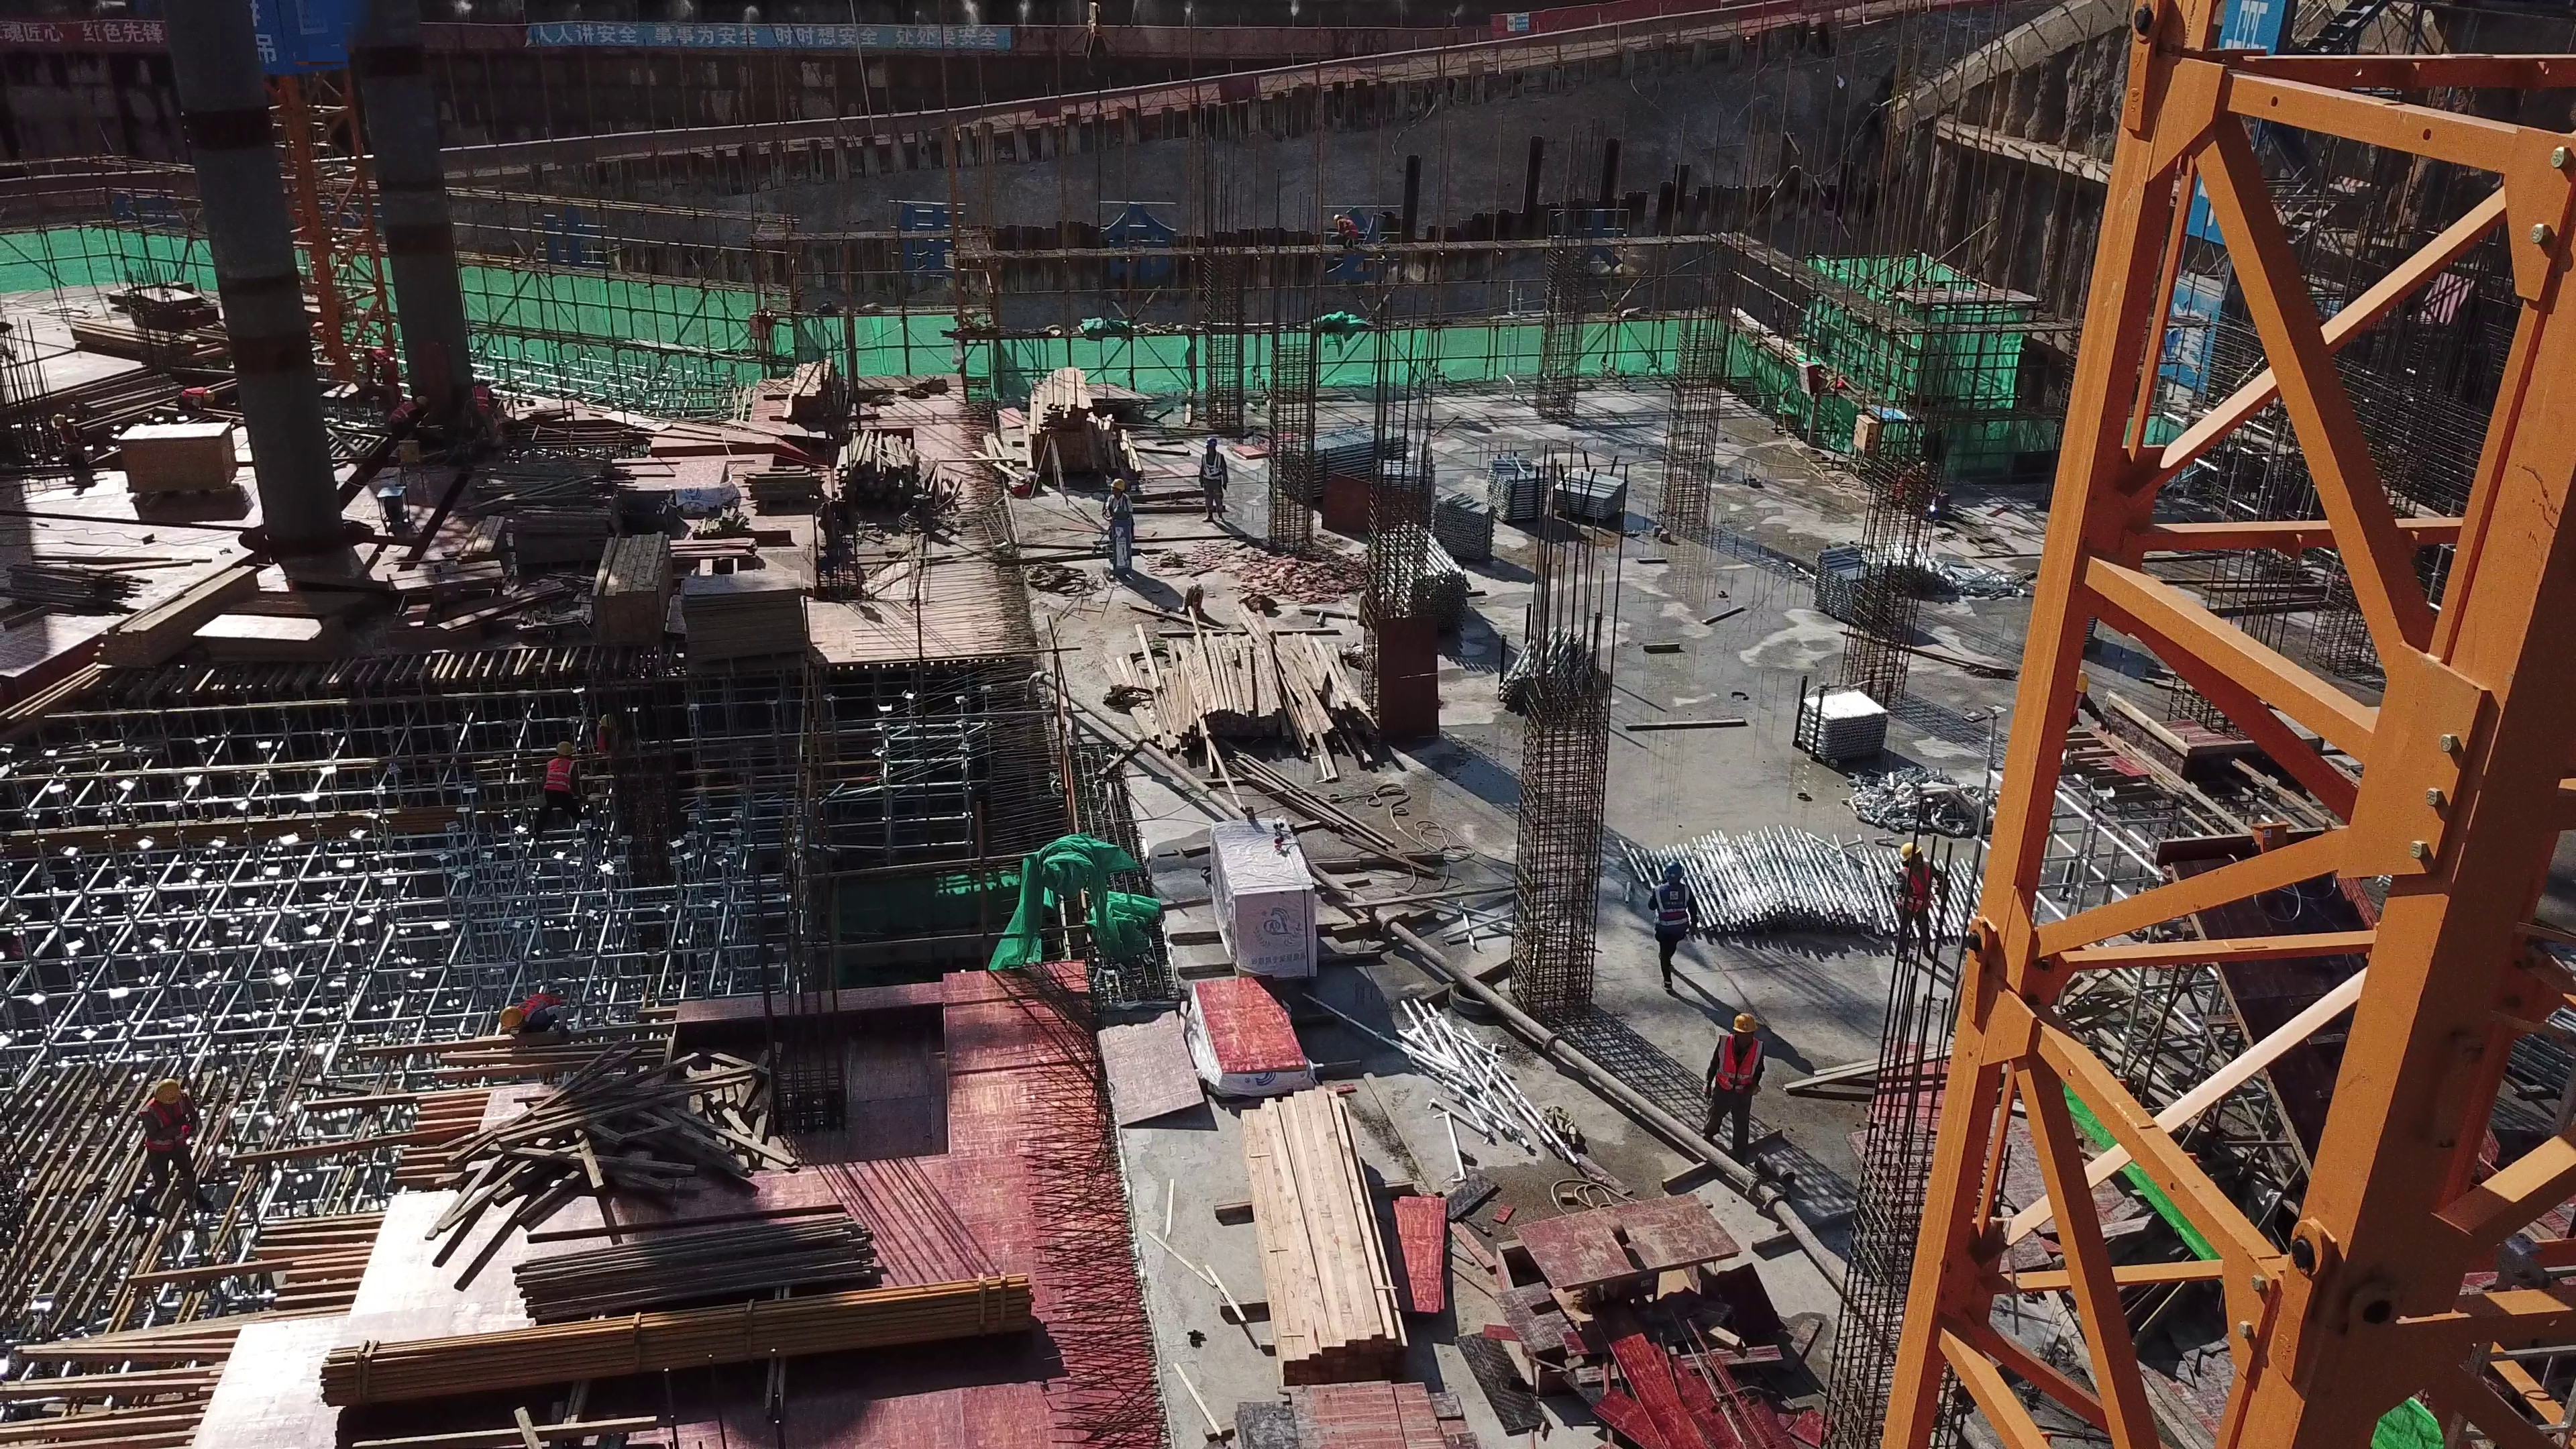board: (1627, 1348, 1850, 1449), (687, 578, 807, 648), (1210, 985, 1287, 1086)
fence: (1048, 21, 1711, 97), (432, 101, 1027, 174)
helmet: (142, 1102, 195, 1152), (157, 1078, 184, 1104), (1896, 841, 1923, 860), (1735, 1012, 1758, 1033), (1666, 863, 1682, 879), (558, 745, 574, 757), (1201, 438, 1221, 450), (1110, 478, 1126, 488), (203, 388, 217, 402)
person: (132, 1083, 205, 1208), (1697, 1021, 1764, 1146), (1646, 858, 1694, 984), (1895, 841, 1941, 969), (535, 741, 583, 828), (1099, 482, 1140, 564), (464, 378, 505, 453), (50, 415, 88, 488), (1197, 440, 1232, 523), (488, 996, 570, 1030), (387, 396, 427, 446), (1325, 209, 1358, 254), (174, 382, 215, 411)
scaffold: (1631, 830, 1995, 951), (1273, 409, 1411, 502), (1490, 633, 1607, 725), (1377, 527, 1465, 631), (1809, 537, 1890, 624), (1796, 686, 1886, 758), (1483, 440, 1548, 524), (1549, 464, 1625, 527), (1431, 490, 1495, 560)
slogan: (509, 193, 1222, 290), (516, 24, 1032, 57), (1, 21, 170, 55)
vest: (1713, 1038, 1760, 1093), (1650, 883, 1689, 940), (1898, 871, 1931, 918), (470, 385, 498, 426), (544, 759, 574, 794), (1201, 450, 1224, 481), (388, 400, 416, 423), (177, 382, 203, 404), (1107, 494, 1129, 518), (596, 714, 616, 736)
wood: (320, 1295, 1101, 1395), (1238, 1097, 1397, 1356), (525, 1230, 884, 1316), (1104, 651, 1357, 763), (496, 1089, 723, 1193), (487, 460, 611, 531), (1020, 368, 1106, 469), (833, 435, 932, 512), (600, 541, 665, 632)
